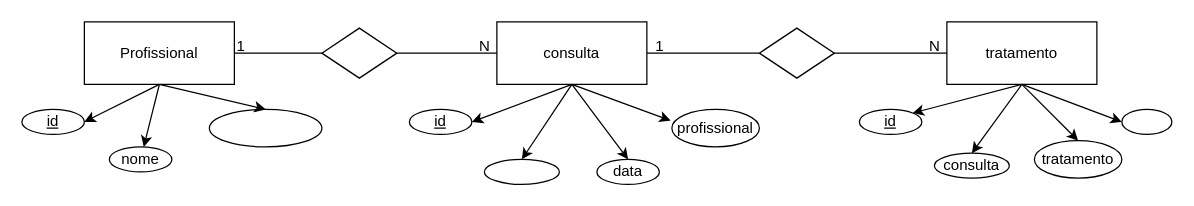
The diagram is 1194 pixels wide and 206 high, and some of its shapes have lost their labels. The centre of each missing label's shape, as x and y in pixels:
especialidade: [265,127]
faz: [359,52]
paciente: [521,171]
possui: [796,52]
valor: [1146,121]
